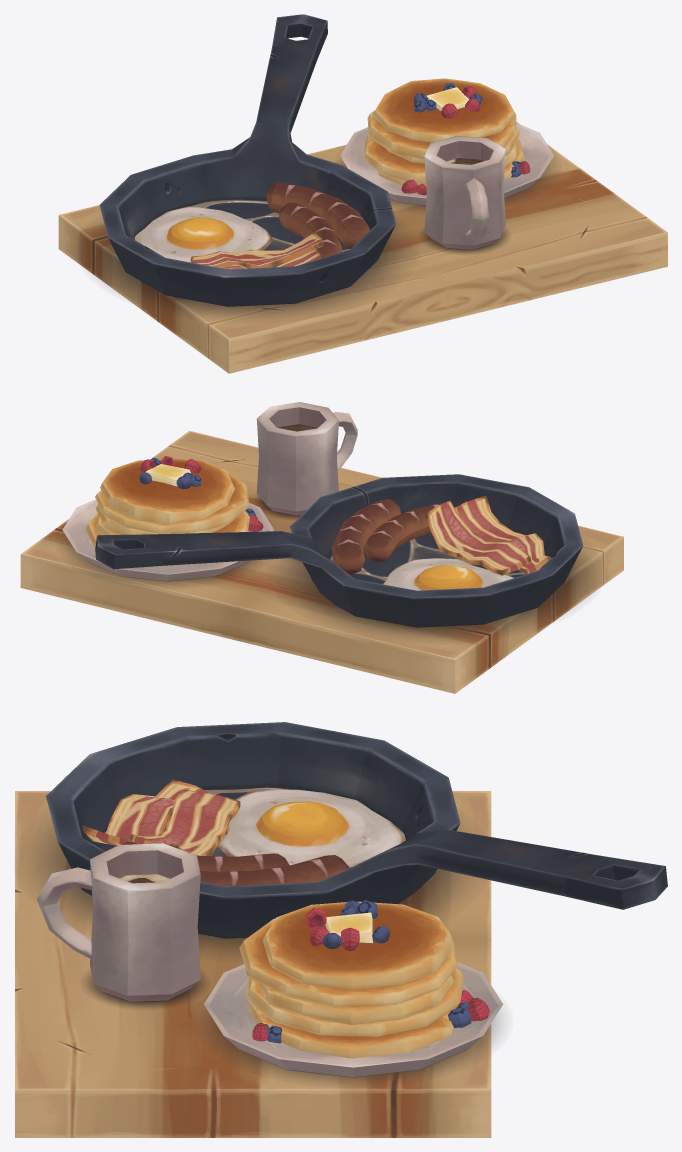
Rendered from desayunos.glb.
3 renders of one model, top to bottom at view 1: azimuth 30°, elevation 25°; view 2: azimuth 150°, elevation 25°; view 3: azimuth 270°, elevation 25°, orthographic. The views are drawn at different scales.
Visible parts, largest first — view 1: Object_4, Object_3, Object_2; view 2: Object_4, Object_3, Object_2; view 3: Object_4, Object_3, Object_2.
Boxes of the visible parts, <box> form: Object_4: <box>58,78,667,373</box>; Object_3: <box>99,14,530,306</box>; Object_2: <box>90,161,552,317</box>; Object_4: <box>20,402,623,693</box>; Object_3: <box>95,456,583,627</box>; Object_2: <box>64,496,592,638</box>; Object_4: <box>15,791,503,1137</box>; Object_3: <box>46,722,667,1043</box>; Object_2: <box>32,822,500,1083</box>.
Size of the model in its own units: 4.26 by 0.9983 by 3.57.
3 materials, 3 textured.
